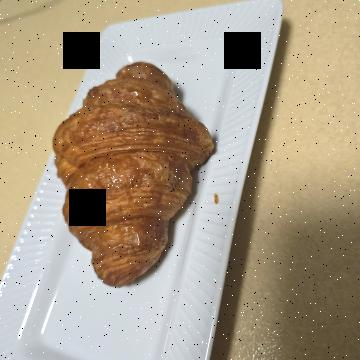croissant: (50, 131, 297, 307)
